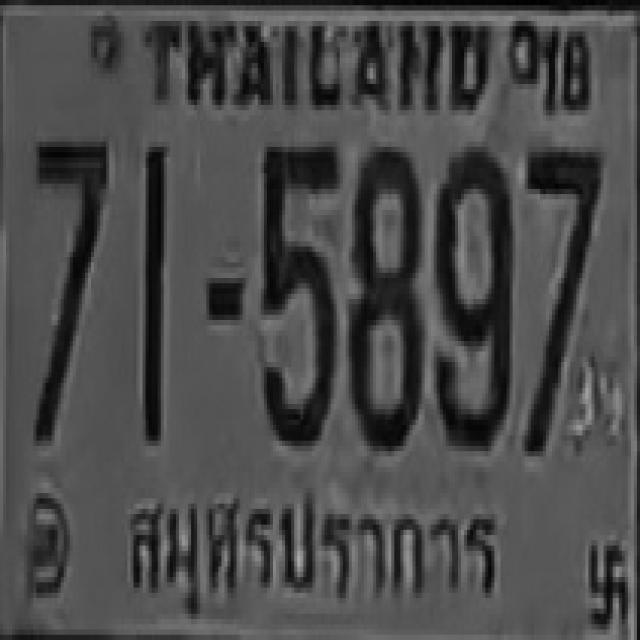1: (142, 147, 164, 441)
5: (260, 139, 338, 443)
7: (523, 142, 599, 451), (30, 136, 106, 441)
8: (346, 142, 418, 446)
9: (432, 144, 511, 443)
SamutPrakan: (115, 460, 513, 626)
